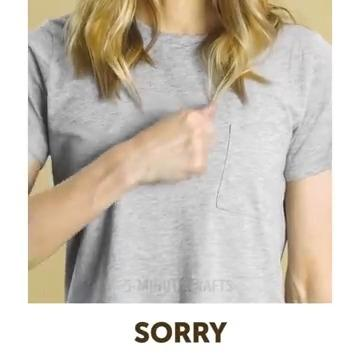sorry: (84, 86, 236, 223)
